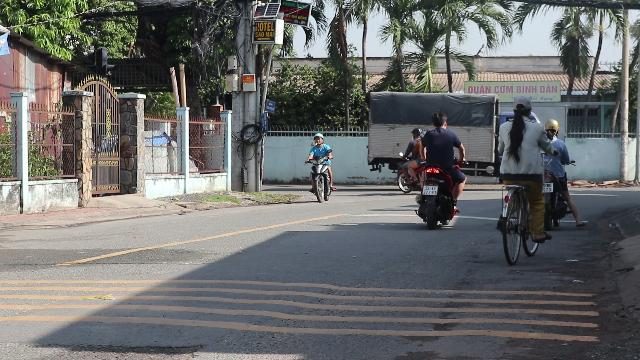licenseplate: (422, 185, 438, 195)
motorcyclist: (414, 109, 466, 227)
nohelmet: (429, 110, 448, 130)
